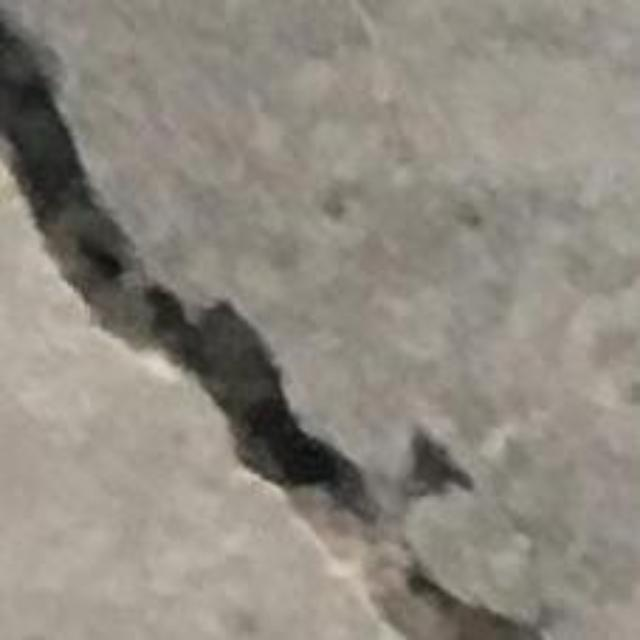crack: (0, 12, 541, 639)
